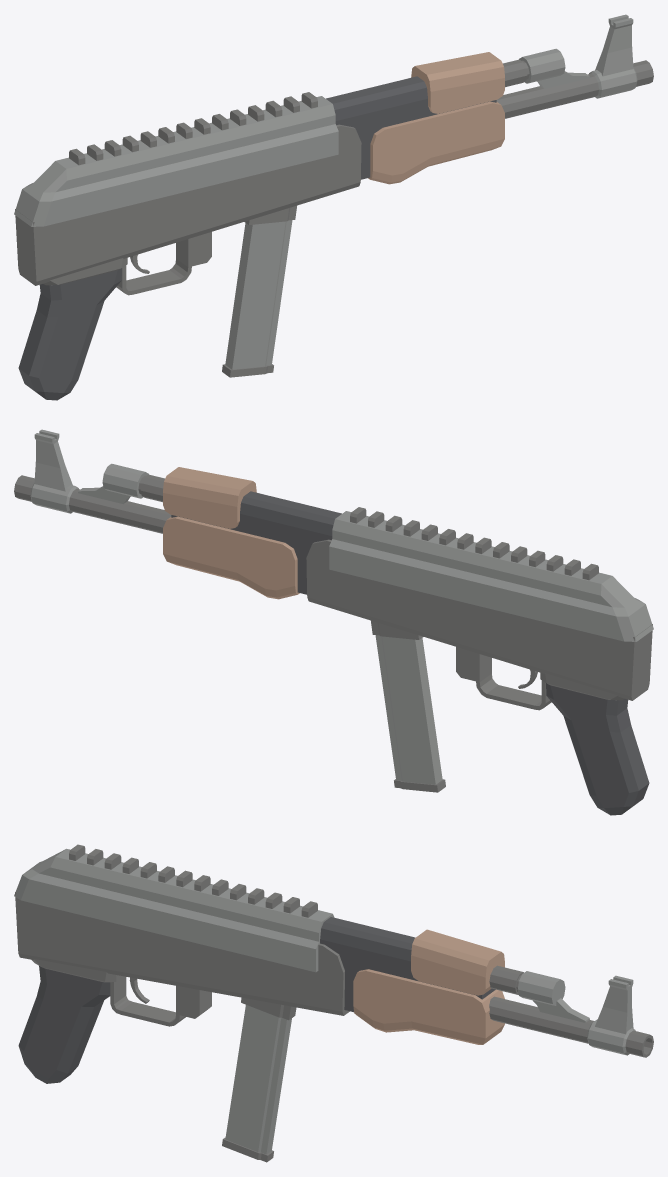
Rendered from AssaultRifle_1.glb.
3 views of the same model, one above another, from view 1: azimuth 30°, elevation 25°; view 2: azimuth 150°, elevation 25°; view 3: azimuth 330°, elevation 25° (orthographic).
Visible parts, largest first — view 1: AssaultRifle_1_Metal (×6), AssaultRifle_1_DarkMetal (×6), AssaultRifle_1_Black (×3), AssaultRifle_1_DarkWood (×3); view 2: AssaultRifle_1_Metal (×6), AssaultRifle_1_DarkMetal (×7), AssaultRifle_1_Black (×3), AssaultRifle_1_DarkWood (×3); view 3: AssaultRifle_1_Metal (×6), AssaultRifle_1_DarkMetal (×8), AssaultRifle_1_DarkWood (×3), AssaultRifle_1_Black (×3).
Part boxes in pixels (bbox=[...]): AssaultRifle_1_Metal (×6): bbox=[14, 14, 637, 369]; AssaultRifle_1_DarkMetal (×6): bbox=[15, 59, 653, 295]; AssaultRifle_1_Black (×3): bbox=[18, 76, 496, 400]; AssaultRifle_1_DarkWood (×3): bbox=[368, 52, 504, 184]; AssaultRifle_1_Metal (×6): bbox=[30, 429, 653, 784]; AssaultRifle_1_DarkMetal (×7): bbox=[14, 474, 652, 710]; AssaultRifle_1_Black (×3): bbox=[171, 491, 649, 815]; AssaultRifle_1_DarkWood (×3): bbox=[163, 467, 299, 599]; AssaultRifle_1_Metal (×6): bbox=[14, 848, 635, 1154]; AssaultRifle_1_DarkMetal (×8): bbox=[15, 844, 653, 1162]; AssaultRifle_1_DarkWood (×3): bbox=[353, 929, 504, 1044]; AssaultRifle_1_Black (×3): bbox=[18, 917, 495, 1083].
Size of the model in its own units: 310 by 126 by 19.6.
